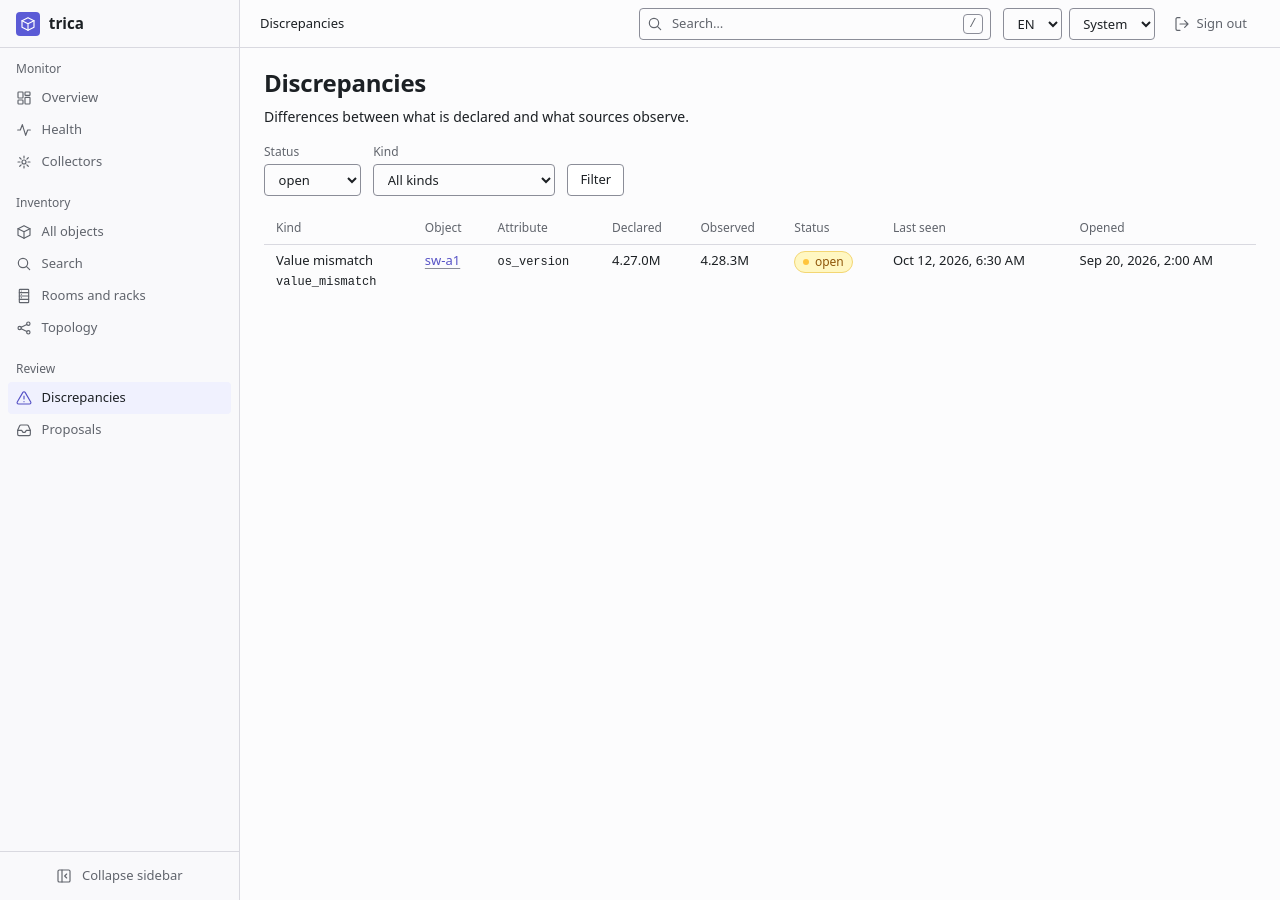
Scenario: language and theme › the language selector switches at once, sets <html lang> and is remembered
Select "FR" in the 1st dropdown named "Language" at coordinates (1033, 24), box [1003,8,1062,40]
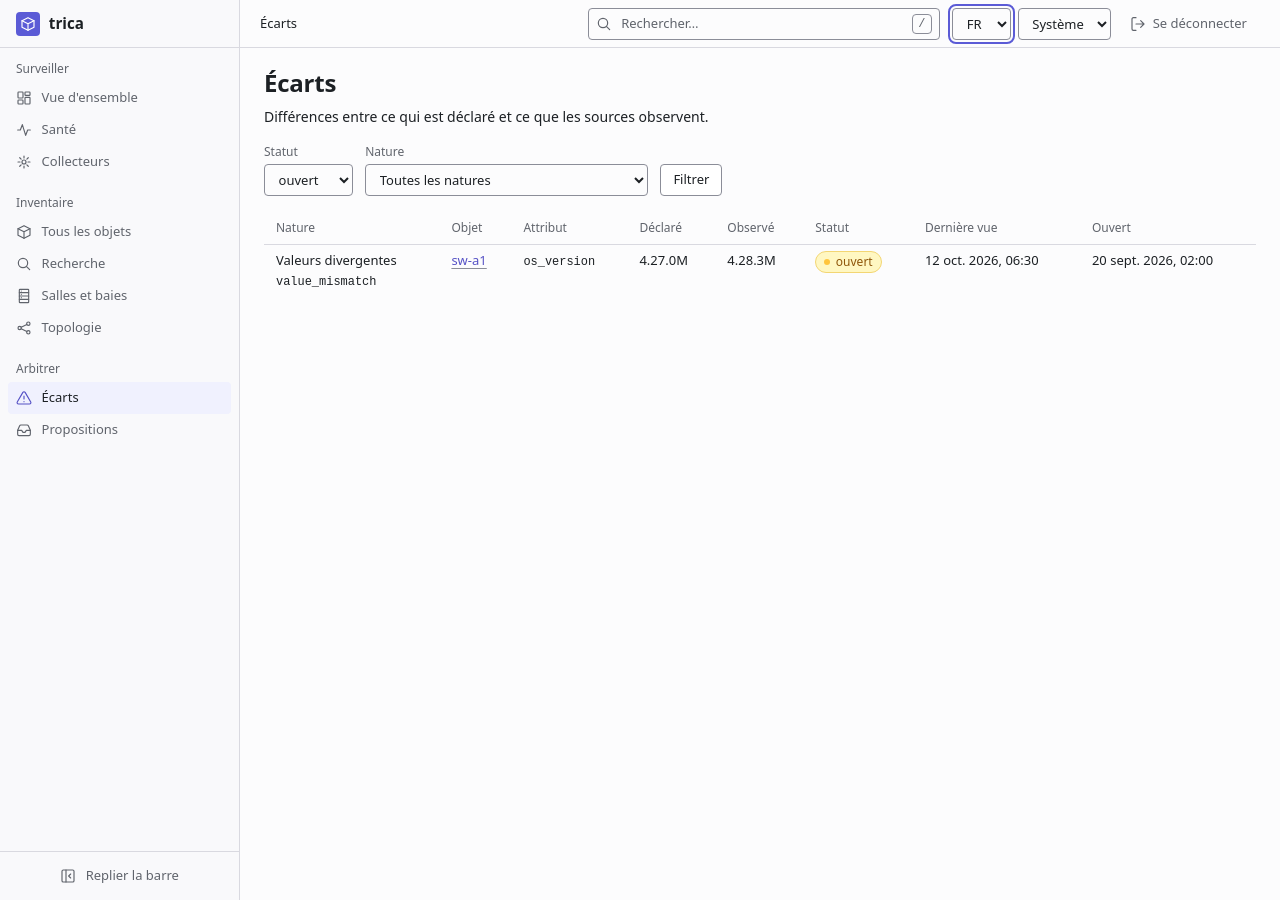
Expected: the heading "Écarts" is shown, [264,66,336,99]
